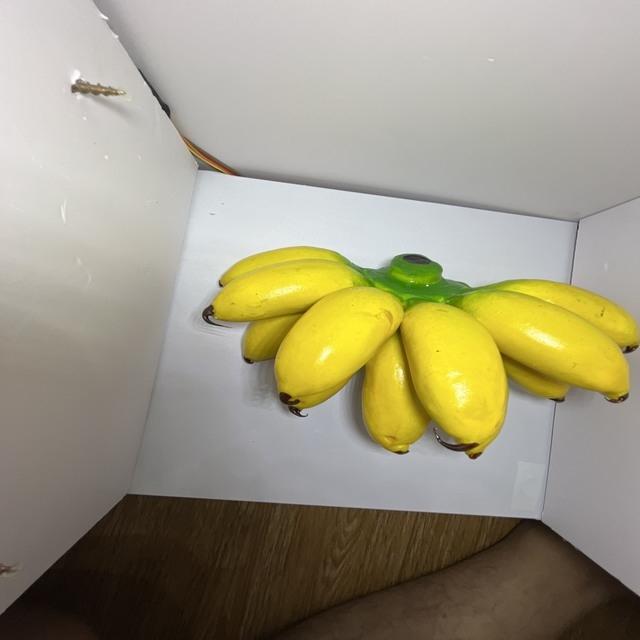Chuoi: (193, 239, 640, 468)
